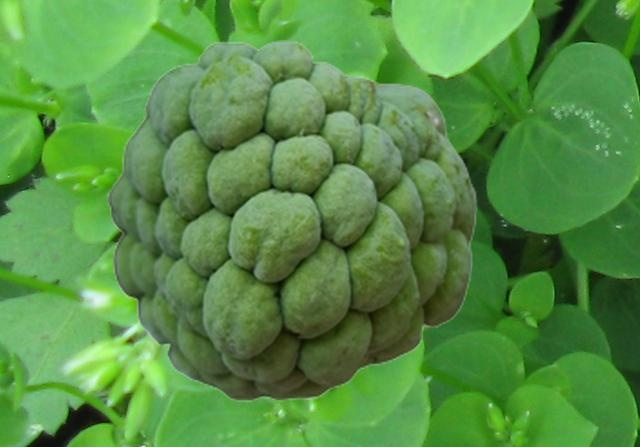atis: (106, 40, 476, 400)
